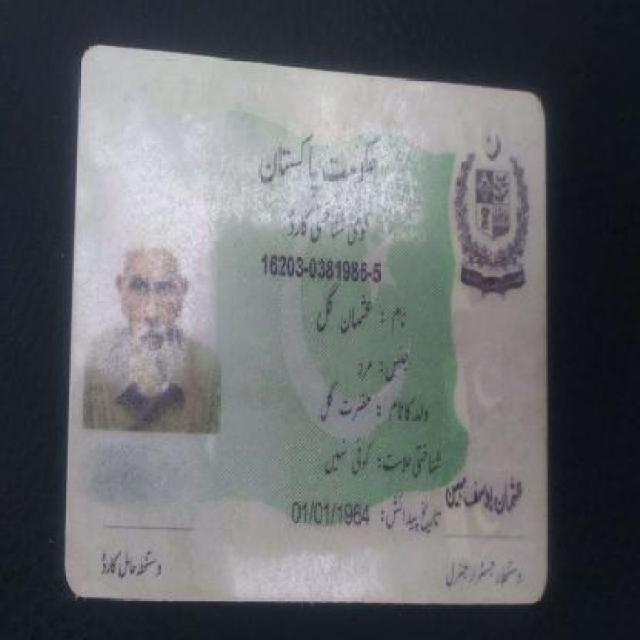Front: (70, 54, 552, 603)
